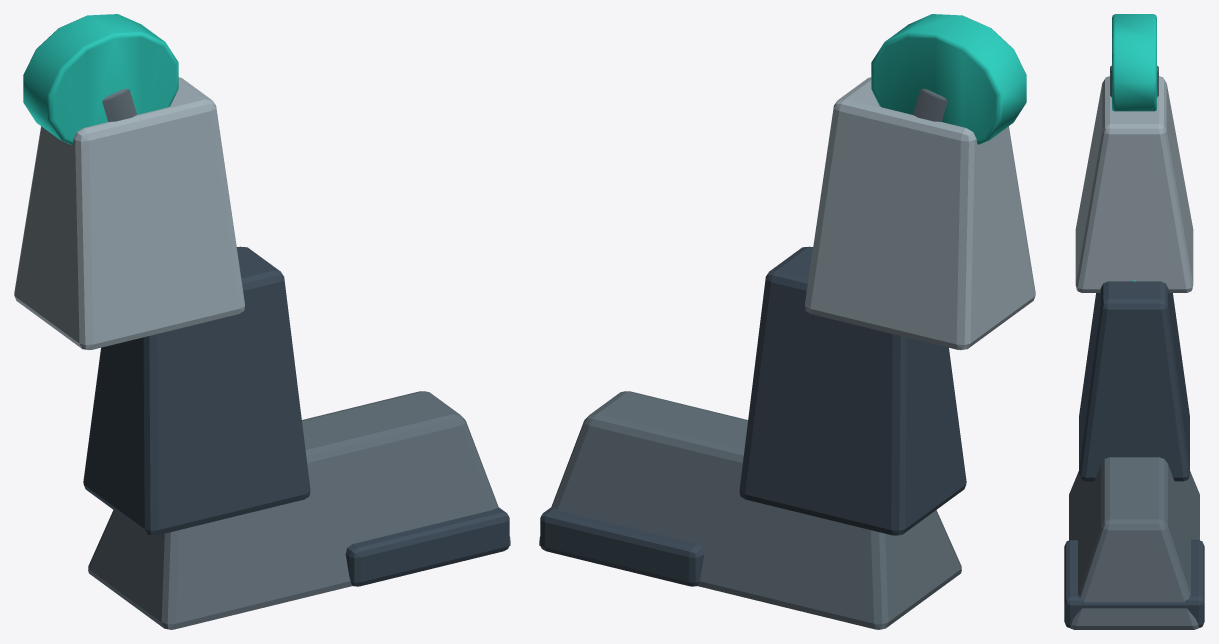
File: SM_Needle_LegR.fbx
3 views of the same model, side by side, from view 1: azimuth 30°, elevation 25°; view 2: azimuth 150°, elevation 25°; view 3: azimuth 270°, elevation 25° (orthographic). The views are drawn at different scales.
Visible parts, largest first — view 1: SM_Needle_LegR; view 2: SM_Needle_LegR; view 3: SM_Needle_LegR.
Part boxes in pixels (box(x1,y1,x2,y2)): SM_Needle_LegR: box(14, 14, 510, 629); SM_Needle_LegR: box(539, 14, 1035, 629); SM_Needle_LegR: box(1064, 14, 1204, 629).
Bounding box in the file's own units: 16.36 × 5.68 × 20.88.
